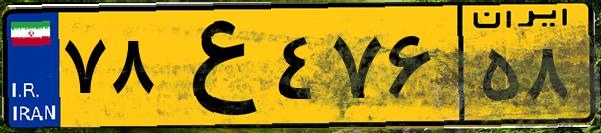4: (270, 28, 330, 110)
5: (475, 38, 525, 113)
6: (385, 28, 445, 110)
7: (330, 28, 385, 110), (57, 26, 110, 100)
8: (525, 38, 570, 115), (110, 28, 158, 98)
ع: (158, 12, 270, 120)
